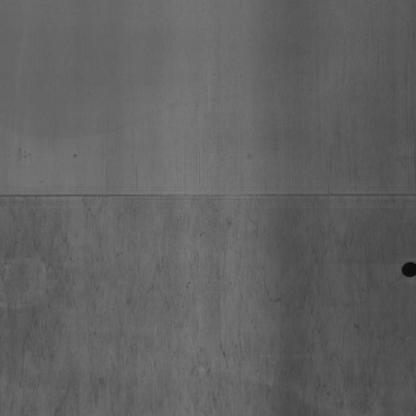punching_hole: (400, 259, 416, 280)
